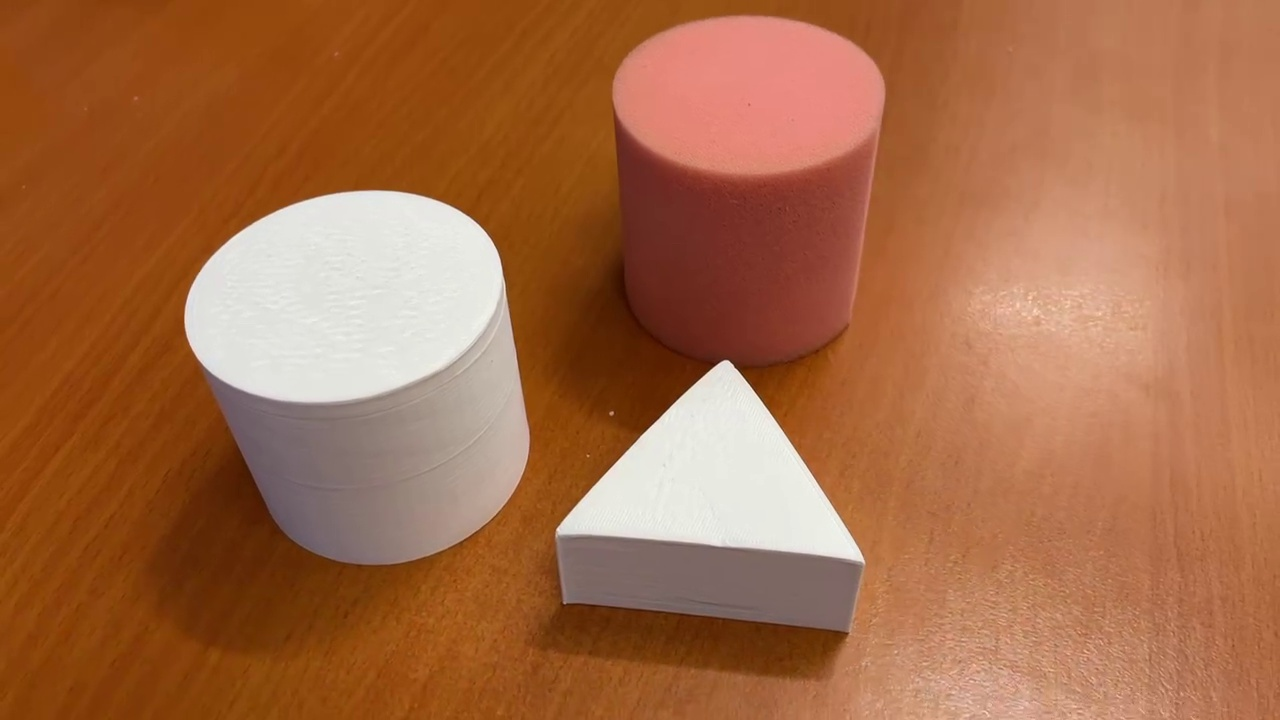Cylinder: (172, 183, 534, 574), (606, 9, 893, 370)
Triangle_short: (553, 355, 863, 648)
